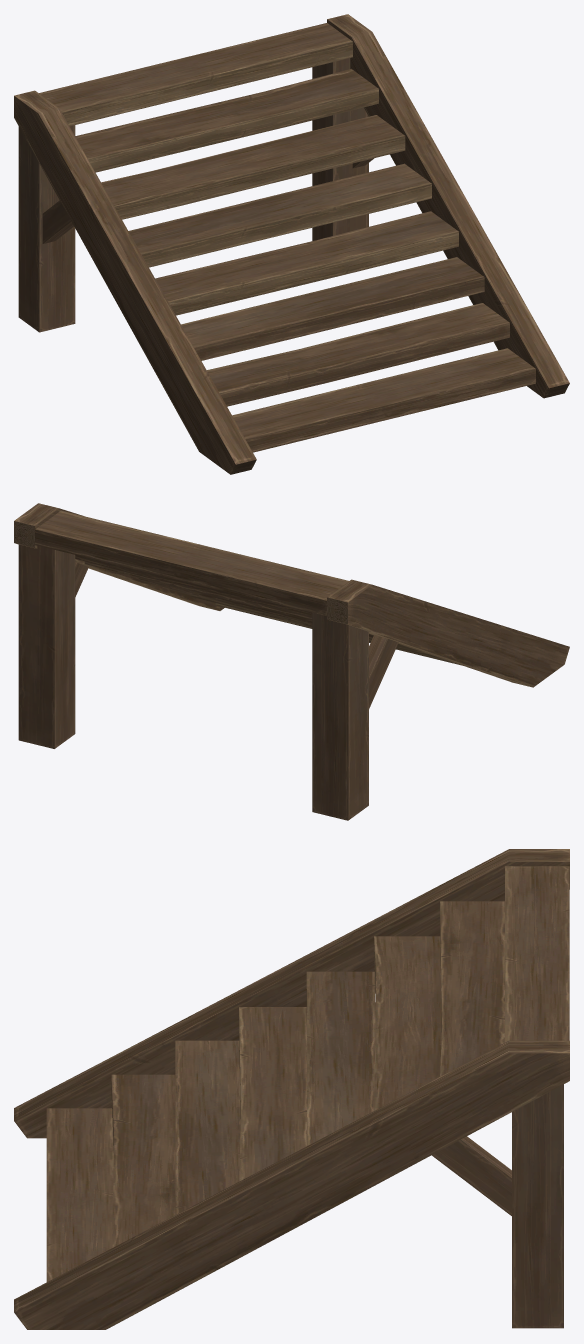
File: SM_Stylized_Wood_Ramp.glb
3 views of the same model, one above another, from view 1: azimuth 30°, elevation 25°; view 2: azimuth 150°, elevation 25°; view 3: azimuth 270°, elevation 25° (orthographic). The views are drawn at different scales.
Visible parts, largest first — view 1: SM_Stylized_Wood_Ramp; view 2: SM_Stylized_Wood_Ramp; view 3: SM_Stylized_Wood_Ramp.
Boxes of the visible parts, x1,y1,x2,y2 form: SM_Stylized_Wood_Ramp: (14, 14, 569, 474); SM_Stylized_Wood_Ramp: (14, 503, 569, 820); SM_Stylized_Wood_Ramp: (14, 849, 569, 1329).
Bounding box in the file's own units: 2.7 × 1.7 × 3.1.
Materials: 1 (1 with a texture image).
